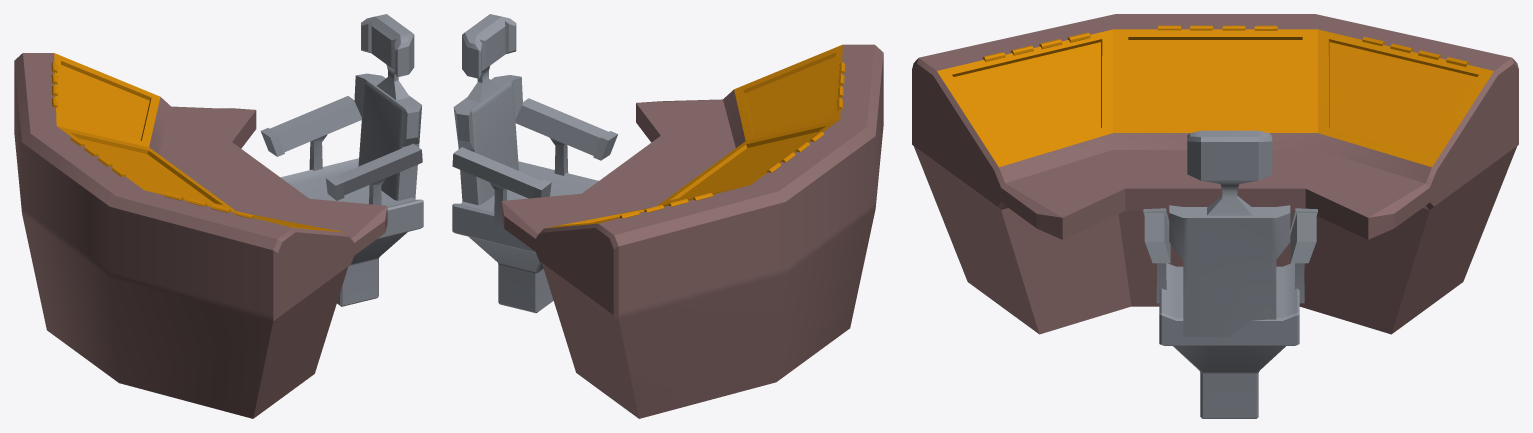
Rendered from MSPZ_CONTROL_DOCK.fbx.
3 views of the same model, side by side, from view 1: azimuth 30°, elevation 25°; view 2: azimuth 150°, elevation 25°; view 3: azimuth 270°, elevation 25° (orthographic). The views are drawn at different scales.
Visible parts, largest first — view 1: polySurface43, Chair2, polySurface42, polySurface44, polySurface41; view 2: polySurface43, Chair2, polySurface41, polySurface44, polySurface42; view 3: polySurface43, Chair2, polySurface44, polySurface42, polySurface41.
Boxes of the visible parts, x1,y1,x2,y2 form: polySurface43: [14, 53, 387, 418]; Chair2: [260, 14, 423, 306]; polySurface42: [54, 53, 160, 147]; polySurface44: [57, 126, 235, 211]; polySurface41: [147, 191, 344, 232]; polySurface43: [501, 44, 883, 418]; Chair2: [452, 14, 618, 313]; polySurface41: [734, 44, 842, 140]; polySurface44: [657, 119, 839, 205]; polySurface42: [546, 186, 746, 228]; polySurface43: [912, 14, 1518, 334]; Chair2: [1143, 130, 1317, 418]; polySurface44: [1113, 29, 1317, 132]; polySurface42: [1318, 29, 1493, 167]; polySurface41: [937, 29, 1112, 167].
Bounding box in the file's own units: 2004 × 1445 × 2641.
